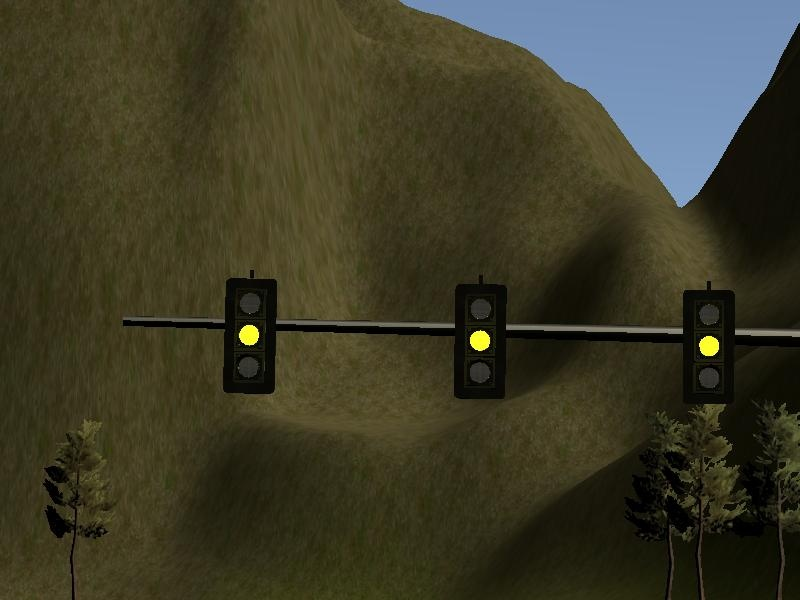YELLOW: (223, 274, 275, 395), (455, 275, 507, 396), (683, 284, 735, 405)
